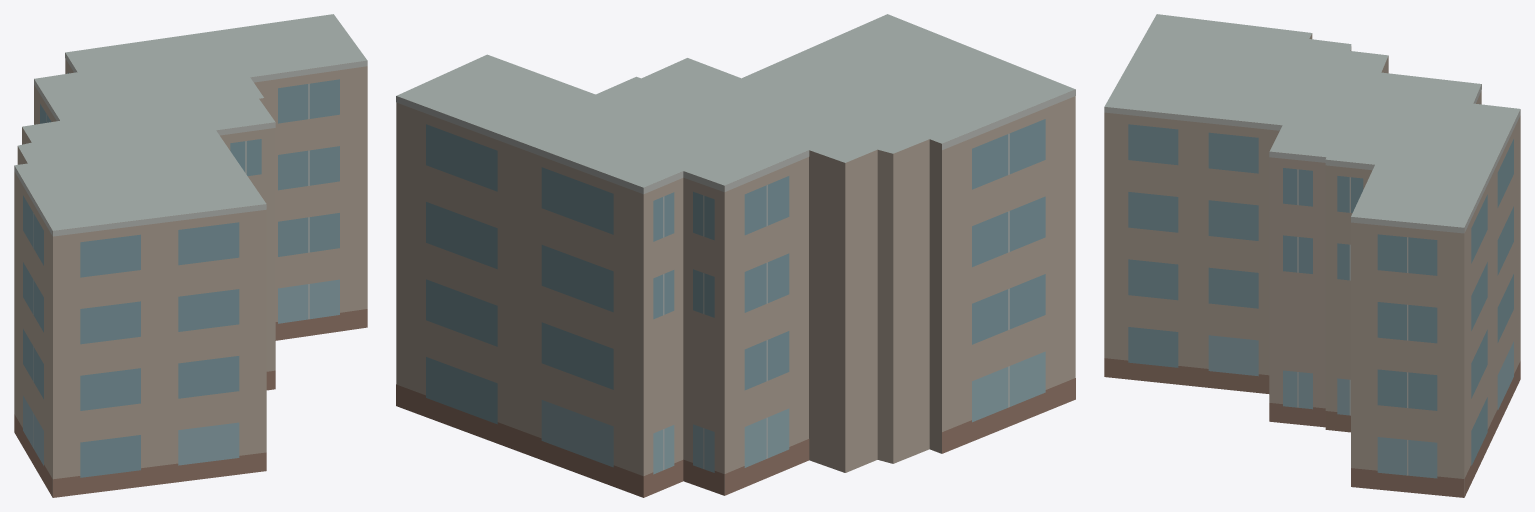
File: survey-upis-33014292.glb
3 views of the same model, side by side, from view 1: azimuth 30°, elevation 25°; view 2: azimuth 150°, elevation 25°; view 3: azimuth 270°, elevation 25° (orthographic). The views are drawn at different scales.
Visible parts, largest first — view 1: survey-upis-33014292.tmp; view 2: survey-upis-33014292.tmp; view 3: survey-upis-33014292.tmp.
Boxes of the visible parts, box(x1,y1,x2,y2) form: survey-upis-33014292.tmp: box(14, 14, 367, 497); survey-upis-33014292.tmp: box(396, 14, 1075, 497); survey-upis-33014292.tmp: box(1104, 14, 1520, 497).
Size of the model in its own units: 19.44 by 11.45 by 16.
